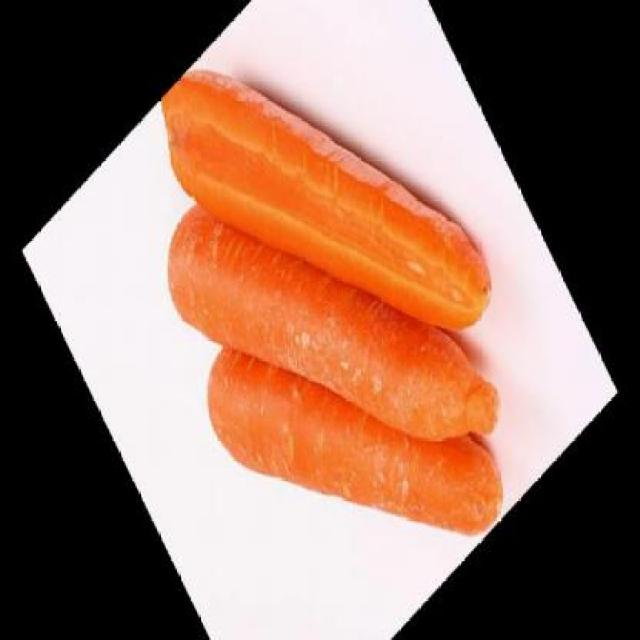carrot: (147, 48, 508, 614), (146, 0, 502, 485), (190, 190, 515, 638)
